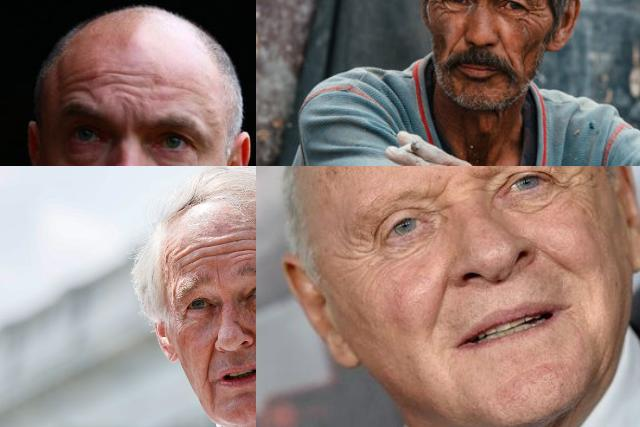crows_feet: (336, 233, 380, 267), (557, 166, 592, 199), (524, 0, 546, 22), (176, 308, 190, 328), (429, 0, 444, 11)
forehead: (102, 64, 140, 106), (207, 235, 236, 263), (174, 242, 202, 268), (64, 74, 90, 100), (170, 80, 198, 96), (242, 231, 256, 261)
frown_line: (430, 174, 452, 212), (214, 266, 226, 290)
gummy_smile: (528, 239, 570, 274), (424, 278, 450, 332), (201, 342, 217, 377), (446, 29, 464, 55), (496, 32, 512, 59)
sad_smile: (206, 384, 222, 413)
